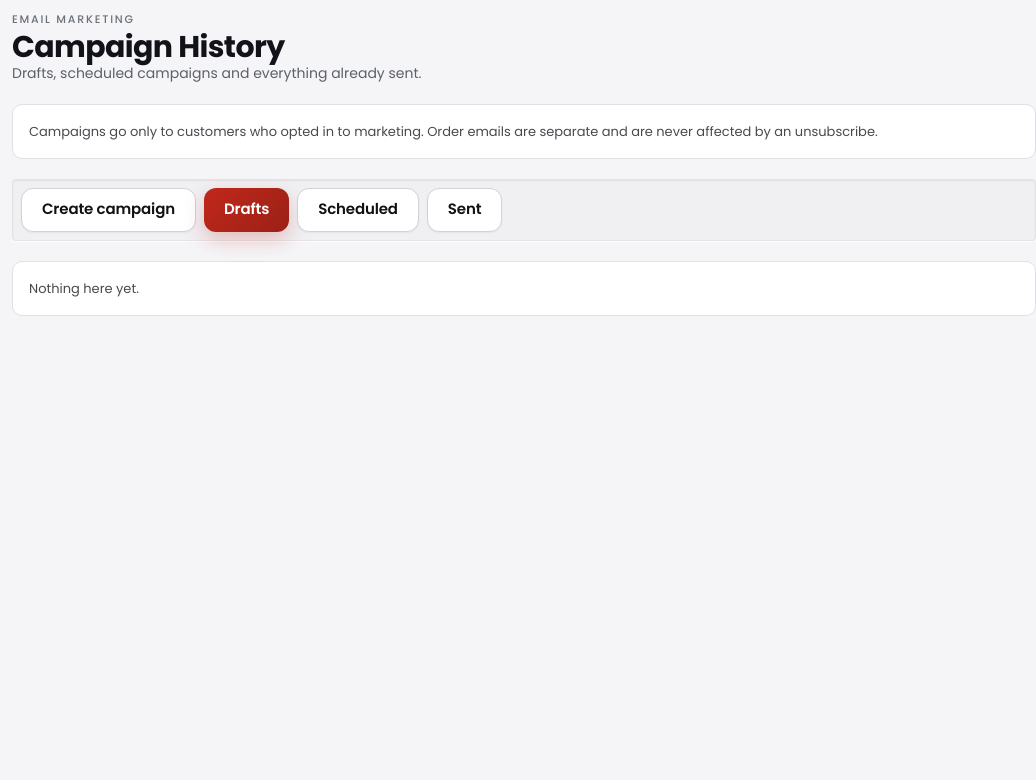
Test: Campaign History: retrying failed recipients › queues the retry and says it goes out shortly
Step 1. Click the button "Sent" → x=465, y=210, box [427, 188, 502, 232]
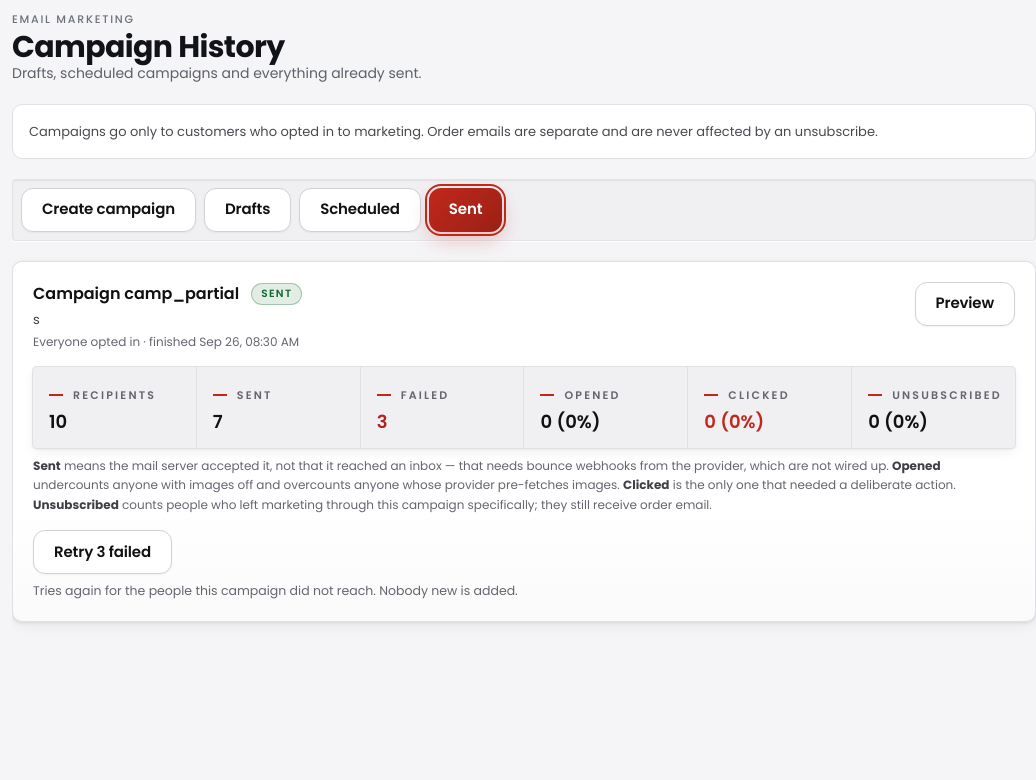
Step 2. Click the button "Retry 3 failed" → x=102, y=552, box [33, 530, 172, 574]
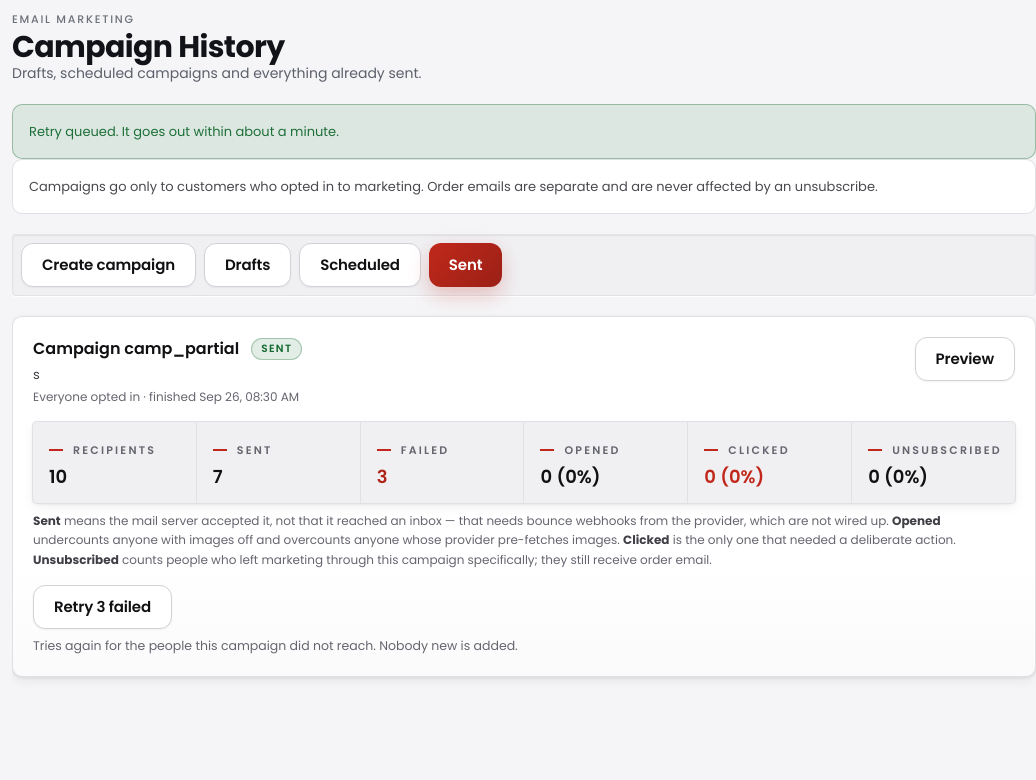
Expected: the text "Retry queued. It goes out within about a minute." is shown, [29, 122, 339, 141]
